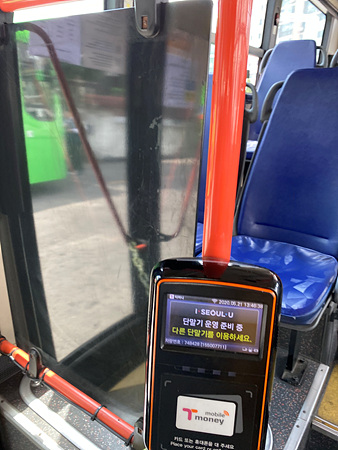terminal: (147, 261, 272, 447)
